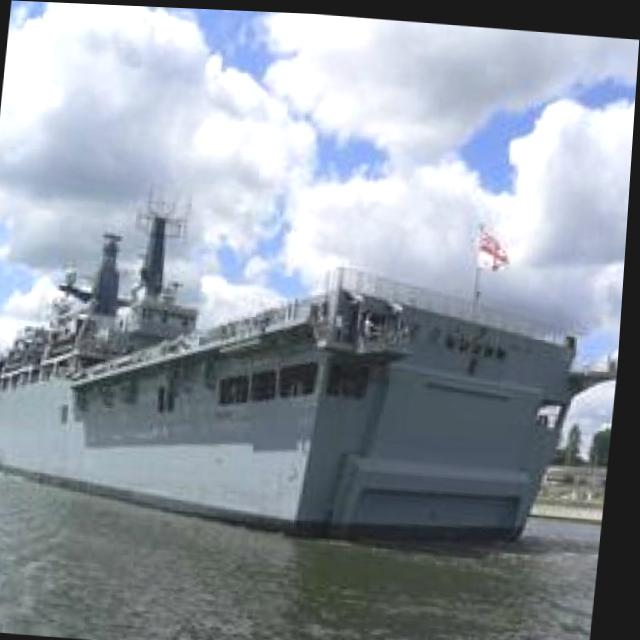ship2: (0, 190, 622, 541)
